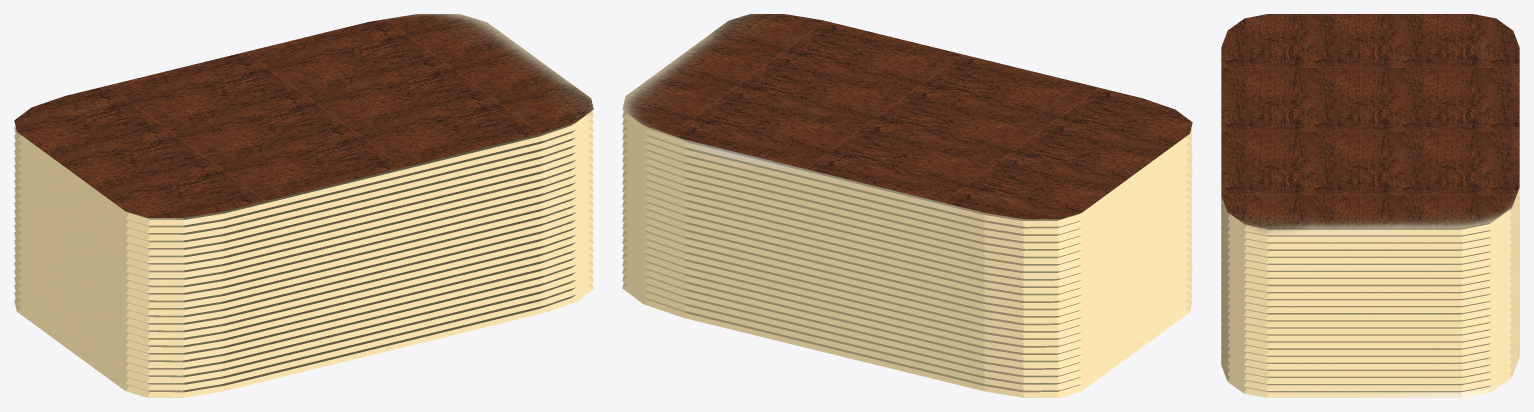
The model's file is baralho.fbx.
3 views of the same model, side by side, from view 1: azimuth 30°, elevation 25°; view 2: azimuth 150°, elevation 25°; view 3: azimuth 270°, elevation 25° (orthographic). The views are drawn at different scales.
Parts seen in each view (by area): view 1: Cube; view 2: Cube; view 3: Cube.
Boxes of the visible parts, x1,y1,x2,y2 form: Cube: (14,14,593,397); Cube: (622,14,1192,397); Cube: (1221,14,1519,397).
Size of the model in its own units: 200 by 73.89 by 118.
1 material, 1 textured.
